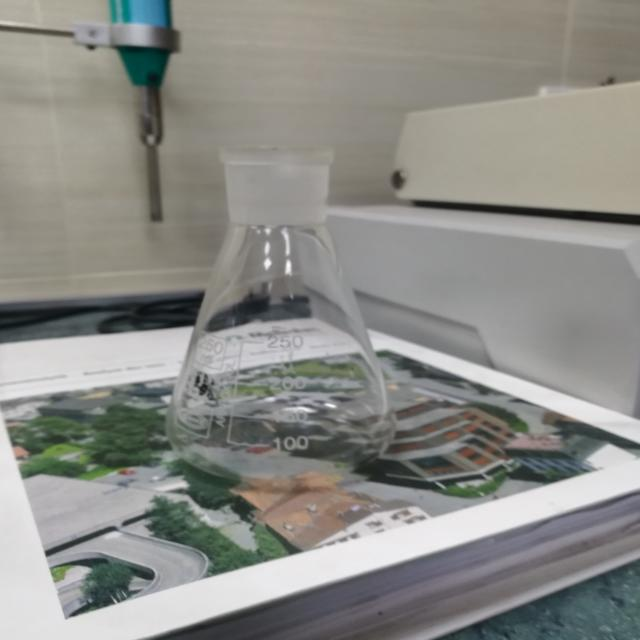Conical_Flask: (126, 112, 446, 502)
